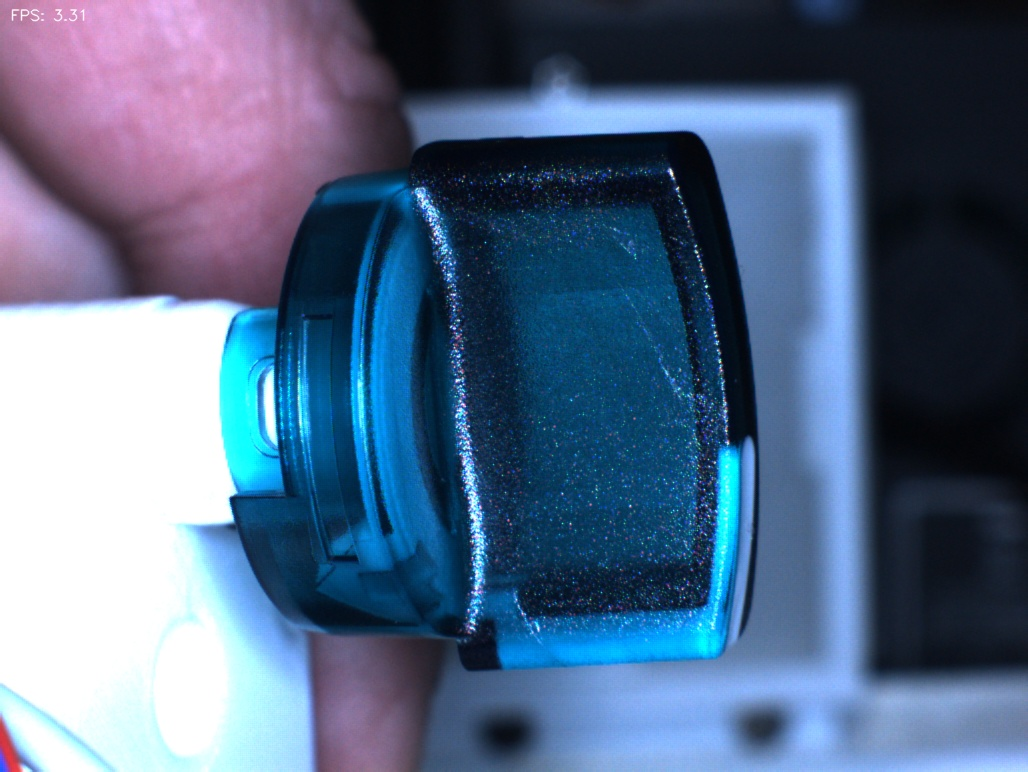Givrage: (595, 231, 711, 435)
